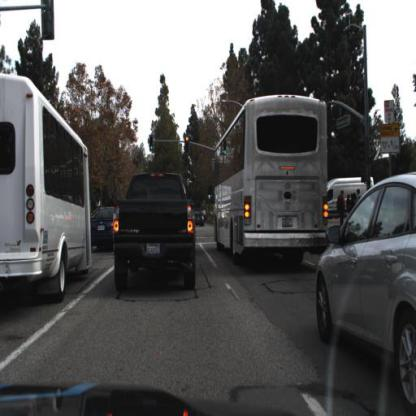car: (316, 168, 416, 414), (116, 173, 195, 292), (328, 174, 370, 216), (89, 205, 118, 251), (91, 205, 115, 251), (192, 208, 206, 227)
pedestrian: (338, 190, 346, 226), (339, 189, 345, 225), (345, 191, 353, 212), (346, 192, 353, 214), (350, 191, 356, 216), (356, 189, 363, 208), (357, 187, 362, 210), (352, 192, 357, 210)
trafficLight: (148, 134, 155, 151), (185, 136, 190, 152)
trafficLight-Red: (184, 133, 192, 153)
truck: (1, 64, 92, 299), (211, 90, 328, 265)
